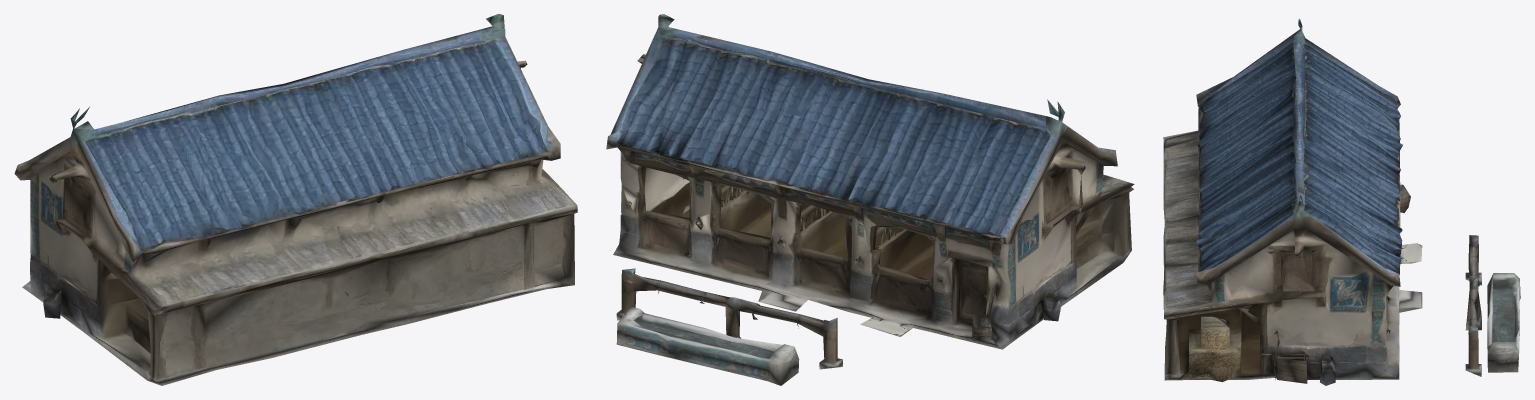
Rendered from stable_0.glb.
The picture shows the model from 3 angles, left to right: view 1: azimuth 30°, elevation 25°; view 2: azimuth 150°, elevation 25°; view 3: azimuth 270°, elevation 25°; orthographic projection. The views are drawn at different scales.
Parts seen in each view (by area): view 1: tripo_node_c7e48ee7-e6b2-4722-a31c-fdf7b69af888; view 2: tripo_node_c7e48ee7-e6b2-4722-a31c-fdf7b69af888; view 3: tripo_node_c7e48ee7-e6b2-4722-a31c-fdf7b69af888.
Part boxes in pixels (<box>): tripo_node_c7e48ee7-e6b2-4722-a31c-fdf7b69af888: <box>14,14,577,385</box>; tripo_node_c7e48ee7-e6b2-4722-a31c-fdf7b69af888: <box>606,14,1134,385</box>; tripo_node_c7e48ee7-e6b2-4722-a31c-fdf7b69af888: <box>1163,18,1520,385</box>.
Size of the model in its own units: 0.9786 by 0.4908 by 0.7396.
Materials: 1 (1 with a texture image).
